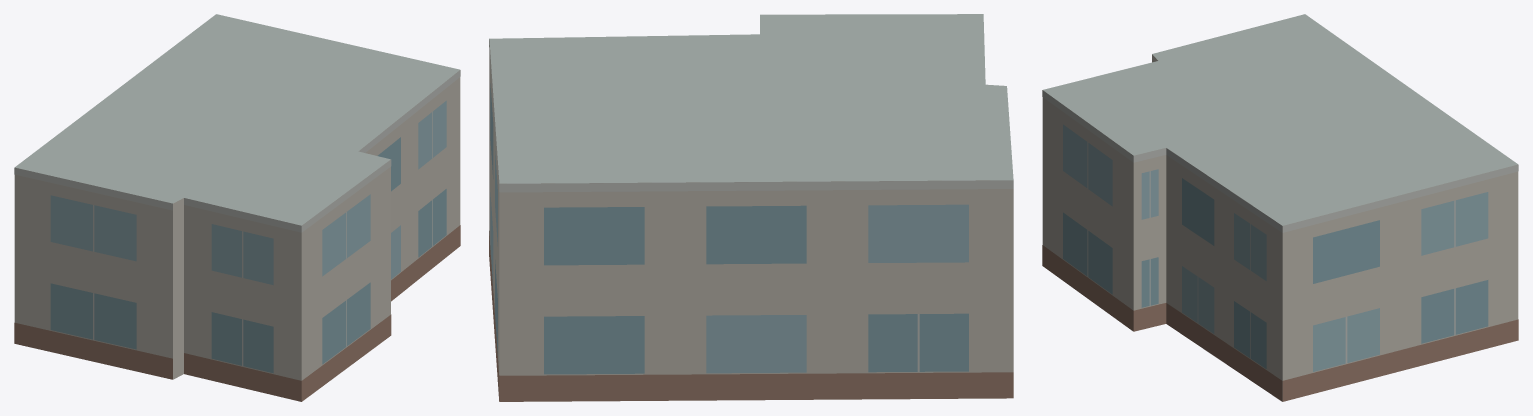
The model's file is survey-upis-33011667.glb.
3 views of the same model, side by side, from view 1: azimuth 30°, elevation 25°; view 2: azimuth 150°, elevation 25°; view 3: azimuth 270°, elevation 25° (orthographic). The views are drawn at different scales.
Visible parts, largest first — view 1: survey-upis-33011667.tmp; view 2: survey-upis-33011667.tmp; view 3: survey-upis-33011667.tmp.
Part boxes in pixels (<box>): survey-upis-33011667.tmp: <box>14,14,460,401</box>; survey-upis-33011667.tmp: <box>489,14,1013,401</box>; survey-upis-33011667.tmp: <box>1042,14,1518,401</box>.
Bounding box in the file's own units: 15.76 × 6.1 × 14.96.
